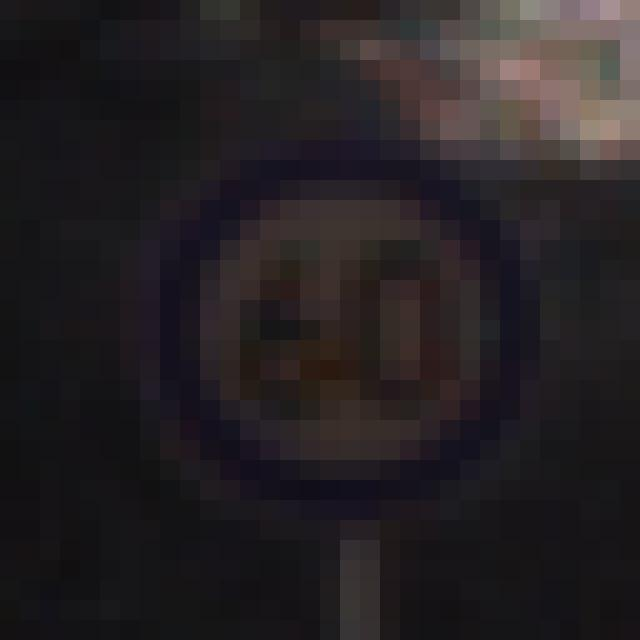SPEED-LIMIT-60: (143, 117, 540, 534)
